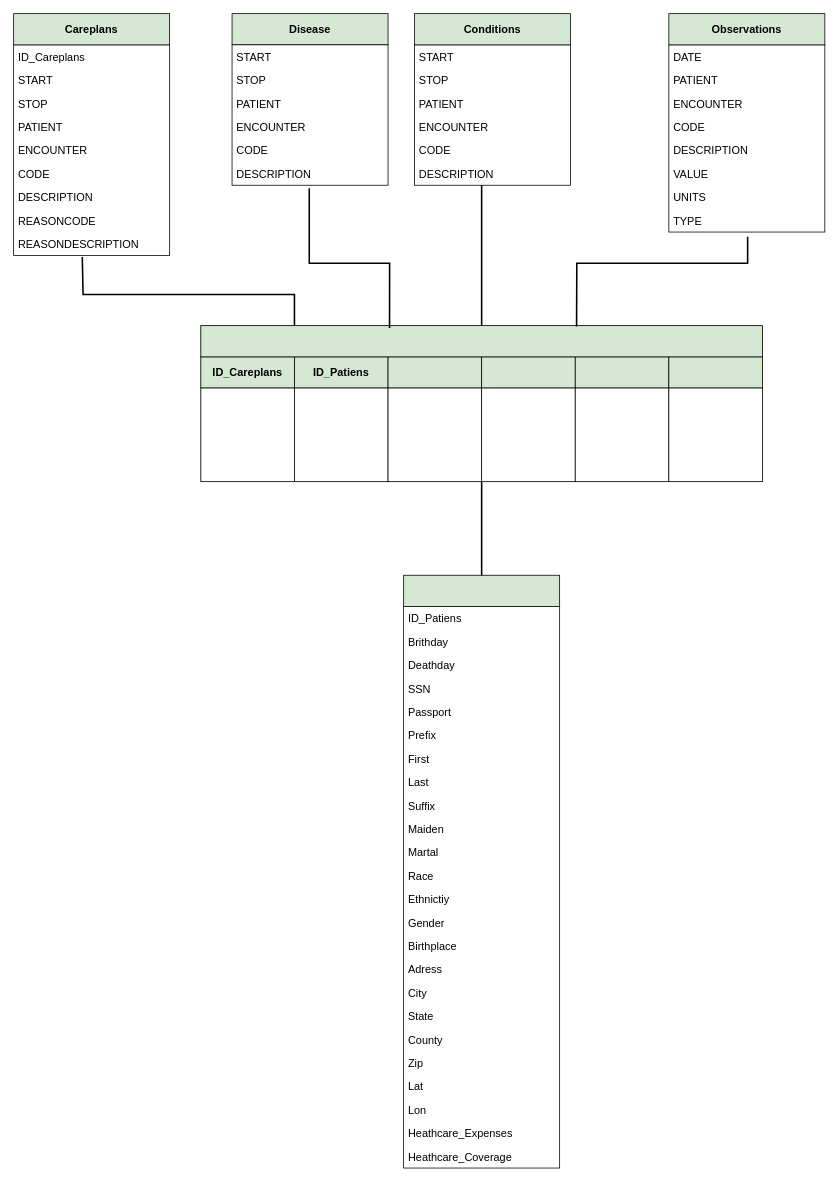
The diagram is 838 pixels wide and 1182 high, and some of its shapes have lost their labels. The centre of each missing label's shape, as x and y in pixels:
"Faktentabelle" belongs at point (481, 341).
"Patiens" belongs at point (481, 590).
